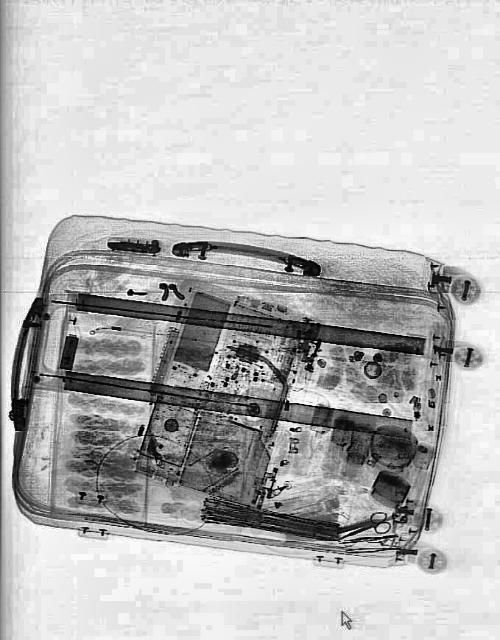Scissors: (334, 503, 393, 552)
